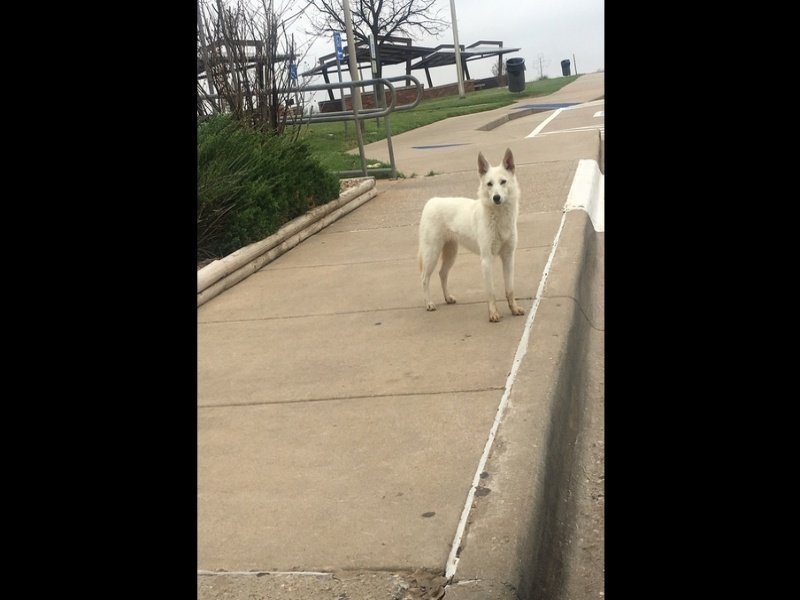dog: (415, 148, 529, 335)
